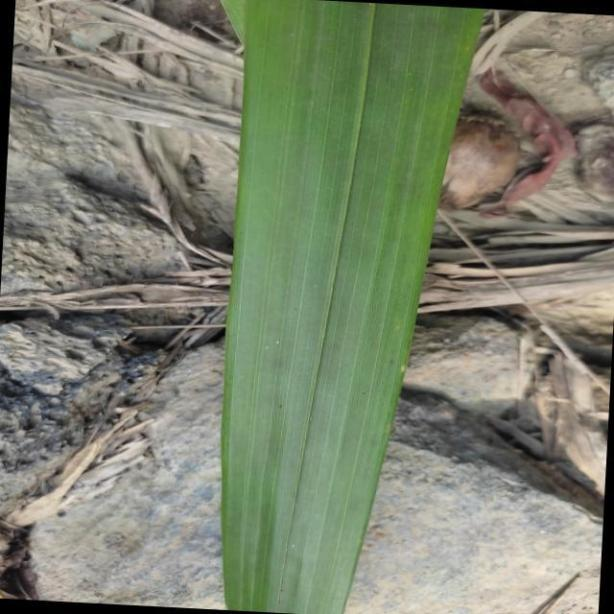Healthy: (219, 0, 486, 614)
